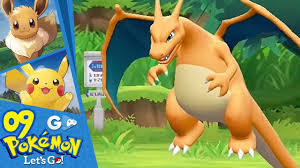charizard: (102, 1, 300, 167)
pikachu: (8, 54, 77, 111)
